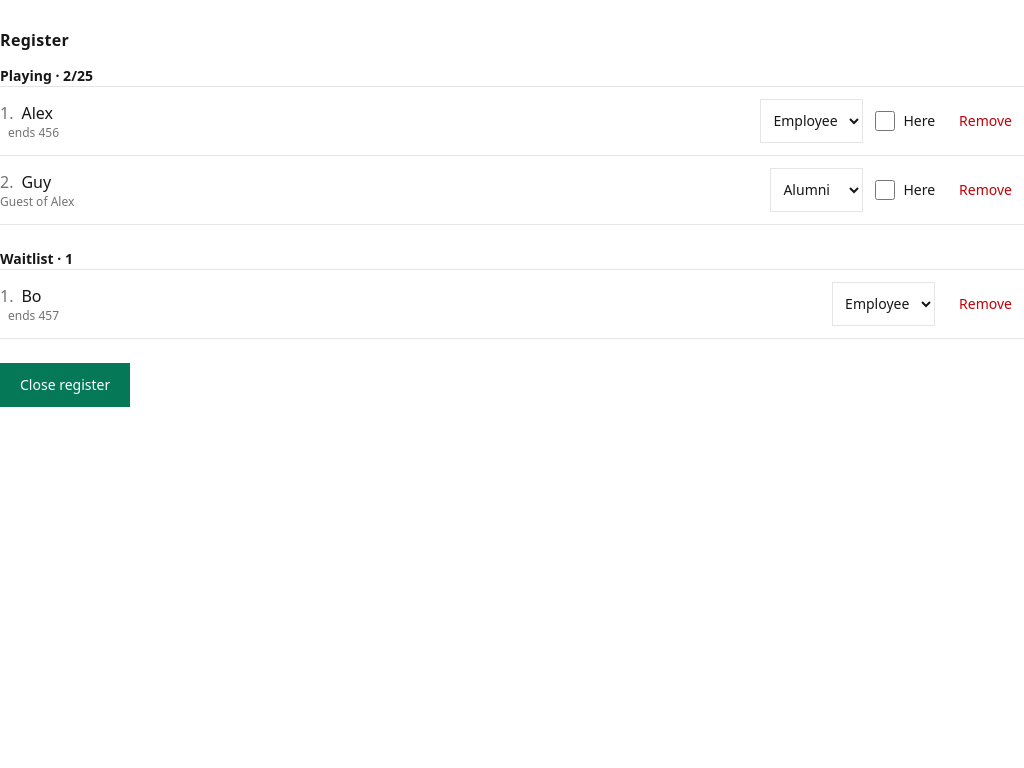
it: removing a Seat › asks first, then removes it with no hold
This screenshot has width=1024, height=768.
Click the button with aria-label "Remove Bo" at (986,304), box [947,282,1023,326]
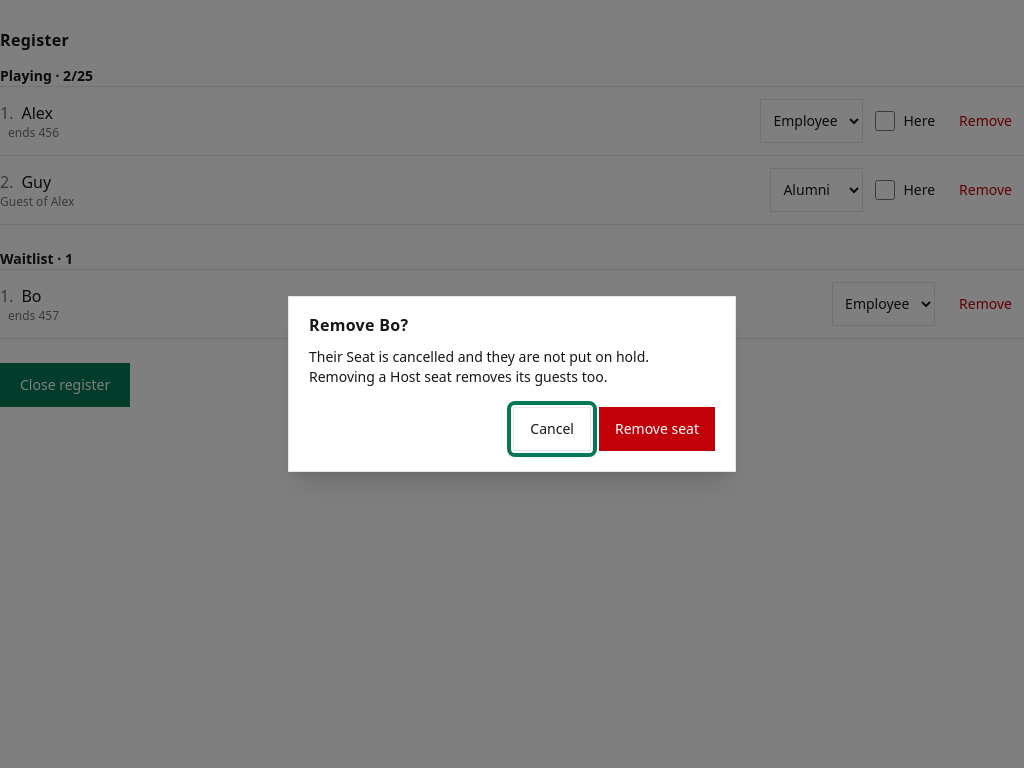
Click the button "Remove seat" at (657,429), box [599,407,715,451]
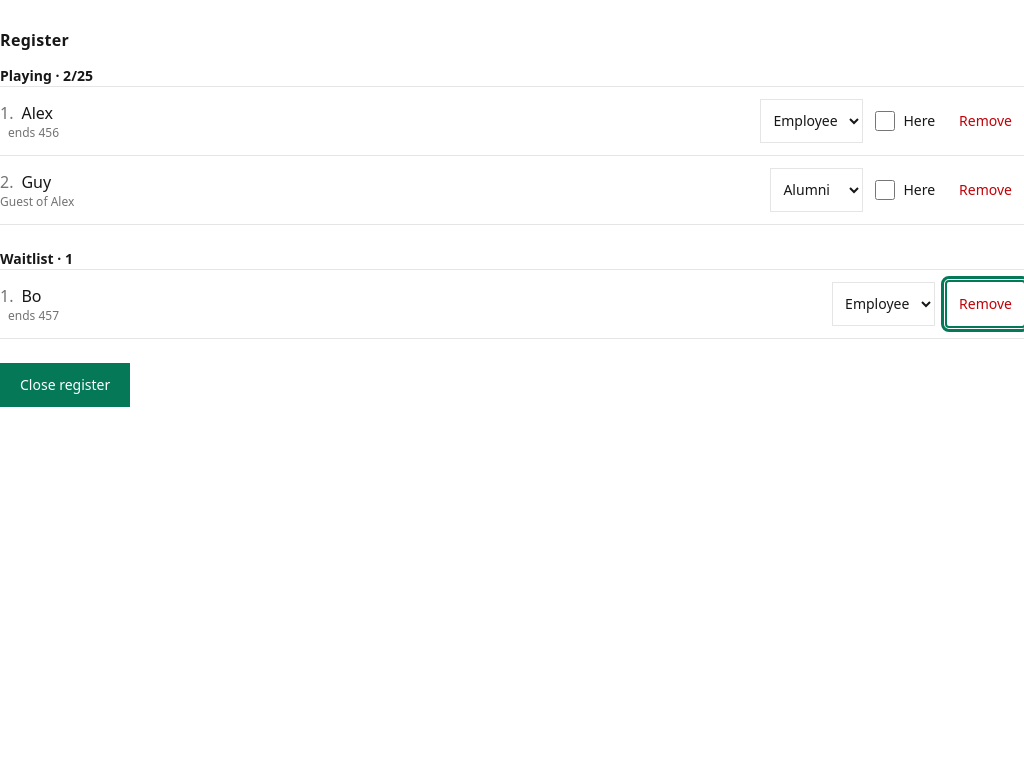
Expected: the dialog is gone
